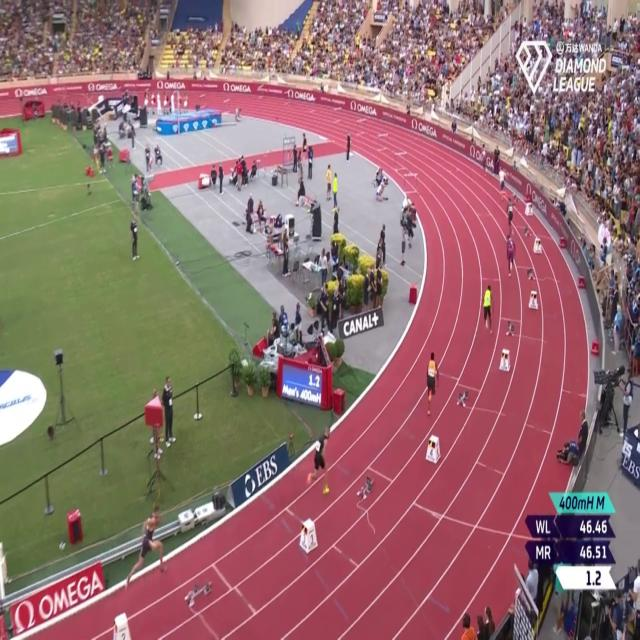athlete: (124, 494, 170, 590), (307, 416, 334, 499), (424, 342, 440, 421), (480, 278, 496, 340), (505, 229, 518, 280), (507, 193, 519, 238), (478, 138, 488, 178), (497, 164, 507, 201)
hurdle: (376, 129, 392, 155), (406, 169, 421, 196), (394, 149, 408, 174), (281, 89, 293, 115), (331, 106, 344, 130), (355, 116, 367, 142), (221, 95, 232, 117), (310, 95, 319, 120), (258, 83, 267, 104), (200, 94, 208, 110)
